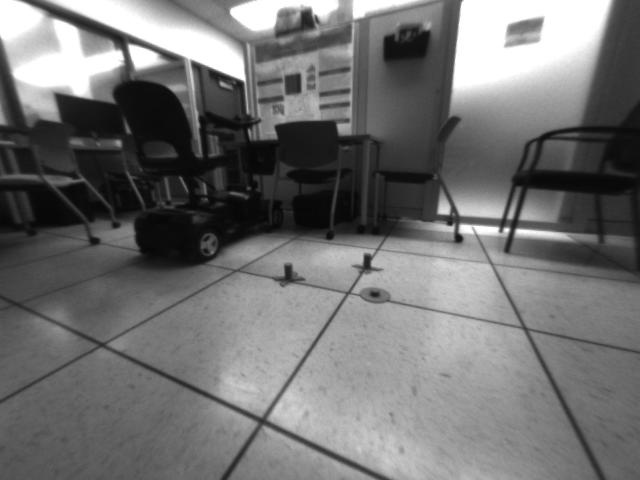X: (272, 260, 302, 287), (353, 251, 382, 276)
